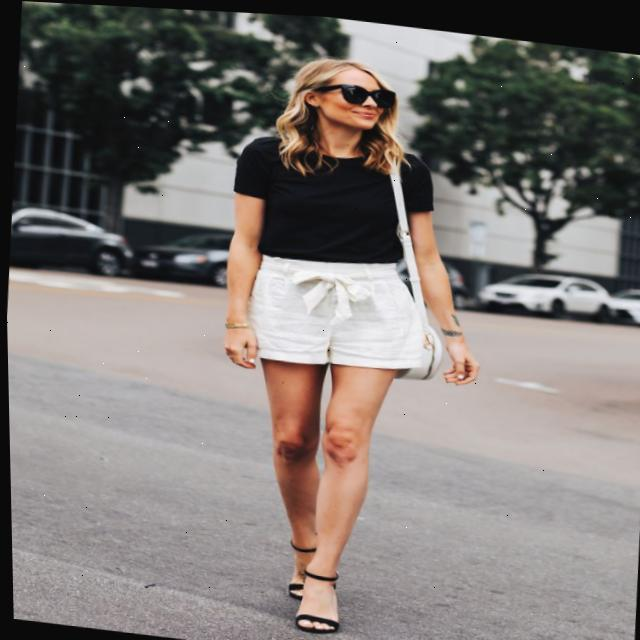Upper-Body: (232, 133, 433, 258)
